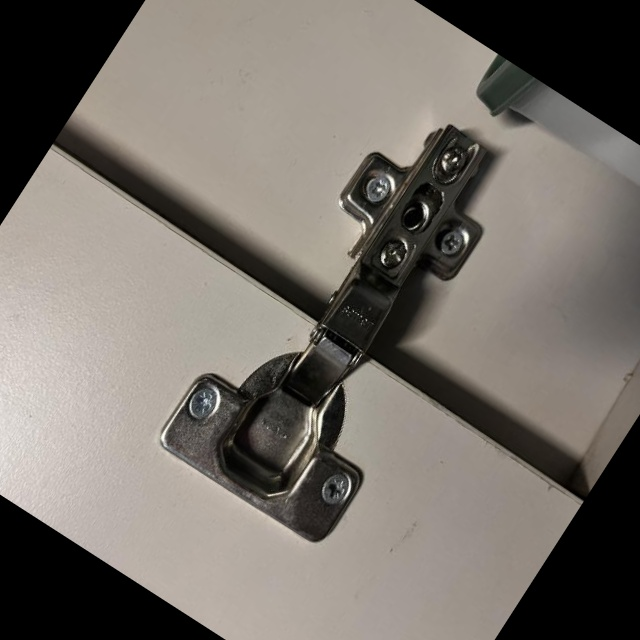pozidriv: (183, 382, 223, 425), (316, 469, 354, 508), (362, 171, 395, 206), (436, 227, 467, 259)
